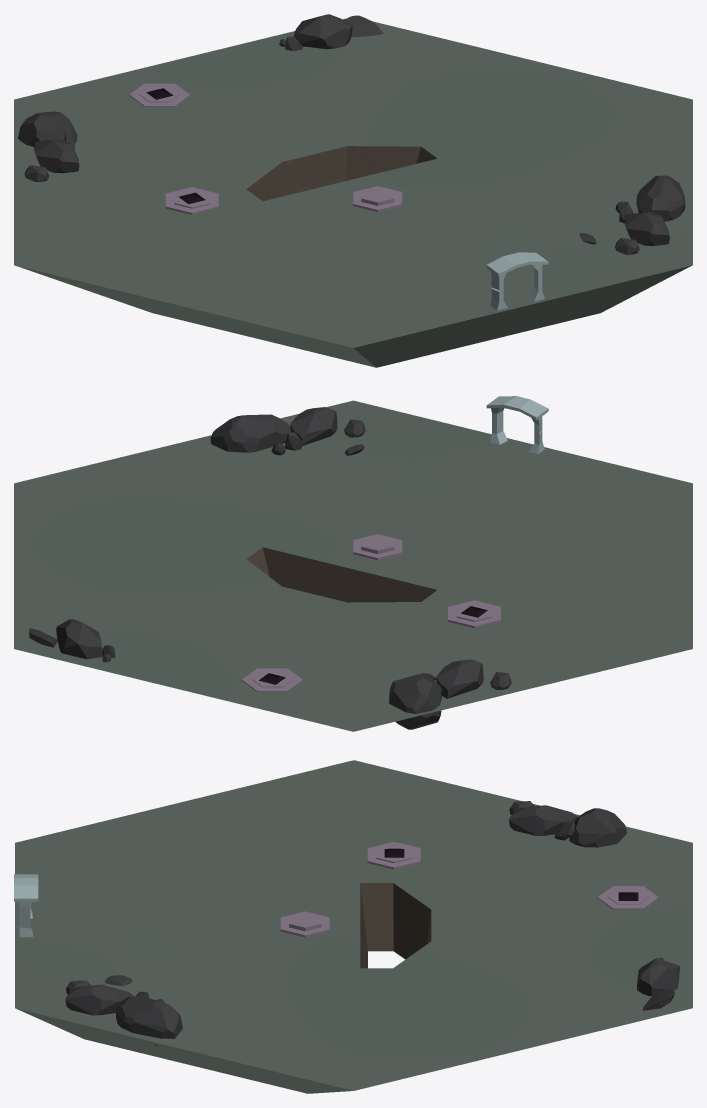
File: lvl1_playspace1.1.glb
The picture shows the model from 3 angles, top to bottom: view 1: azimuth 30°, elevation 25°; view 2: azimuth 150°, elevation 25°; view 3: azimuth 270°, elevation 25°; orthographic projection.
Parts seen in each view (by area): view 1: lvl1_playspace; view 2: lvl1_playspace; view 3: lvl1_playspace.
Boxes of the visible parts, bbox=[...] form: lvl1_playspace: bbox=[14, 14, 692, 367]; lvl1_playspace: bbox=[14, 396, 692, 731]; lvl1_playspace: bbox=[14, 760, 692, 1093].
Size of the model in its own units: 60 by 8.7 by 52.04.
1 material, 1 textured.
